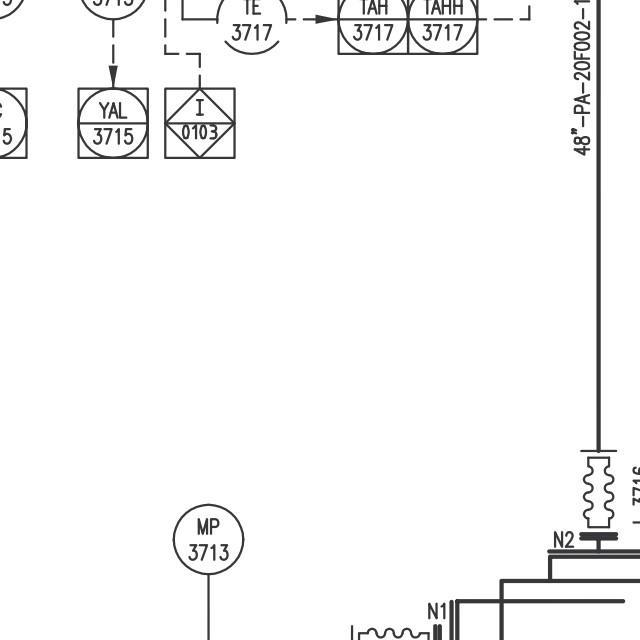EJ: (572, 440, 620, 536)
